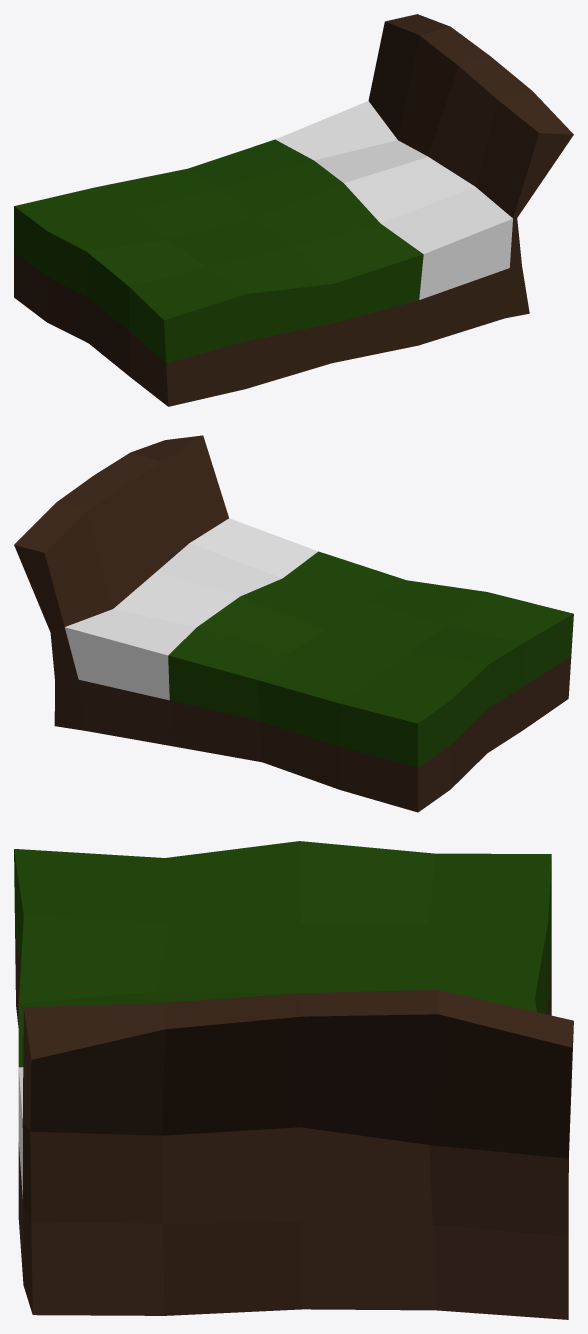
The model's file is Bed_Green.fbx.
The picture shows the model from 3 angles, top to bottom: view 1: azimuth 30°, elevation 25°; view 2: azimuth 150°, elevation 25°; view 3: azimuth 270°, elevation 25°; orthographic projection. The views are drawn at different scales.
Visible parts, largest first — view 1: Bed Green; view 2: Bed Green; view 3: Bed Green.
Boxes of the visible parts, <box> form: Bed Green: <box>14,14,573,406</box>; Bed Green: <box>14,435,573,812</box>; Bed Green: <box>14,841,573,1319</box>.
Size of the model in its own units: 239 by 108 by 161.
